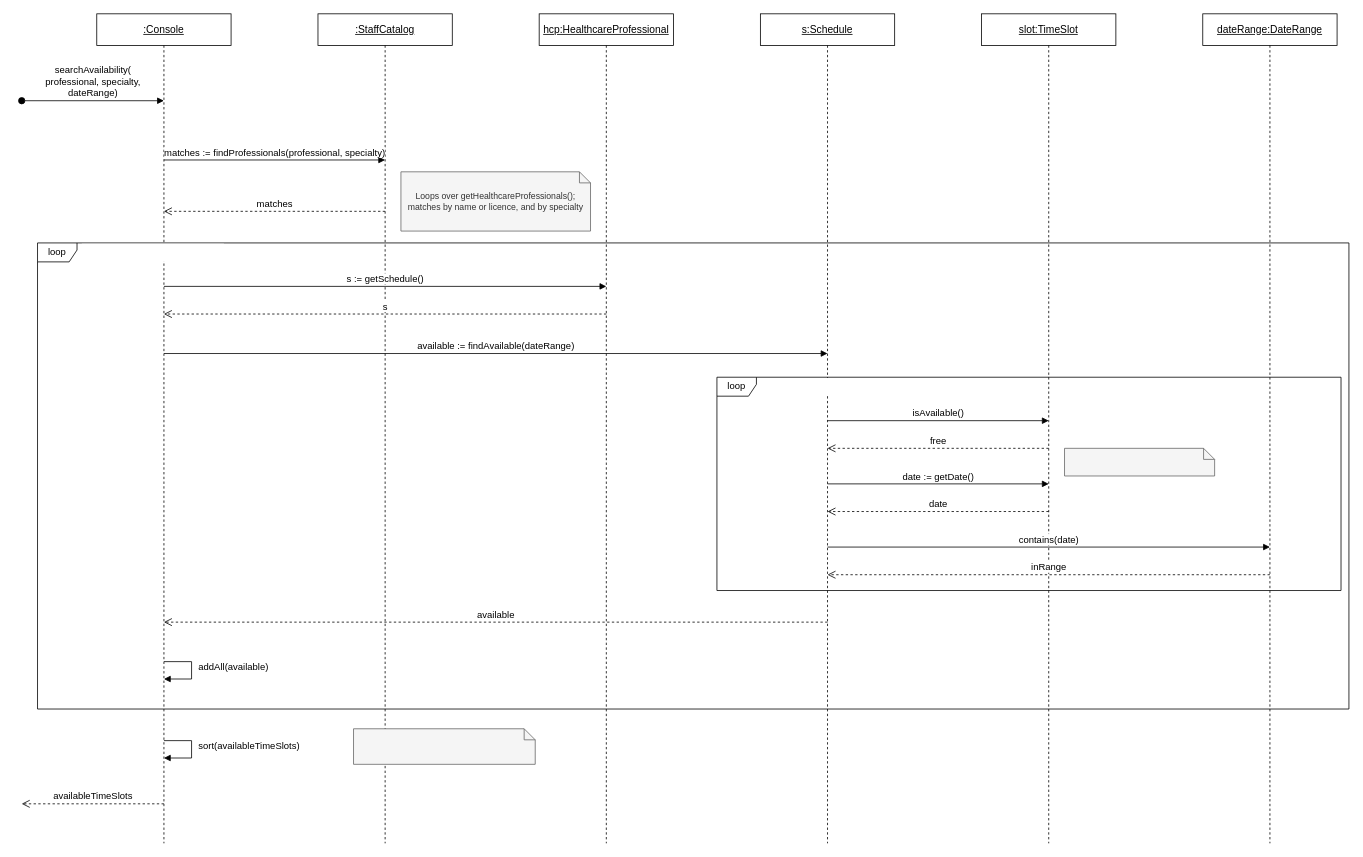
Some shapes in this 1363 by 857 pixel diagram are drawn without their labels. Each missing label, with the centre of its shape:
"[for each hcp in matches]" goes at pixel 152 252.
"[for each slot in timeSlots]" goes at pixel 840 386.
"by date, then start time, then professional name" goes at pixel 444 746.
"Keeps slot if free and inRange" goes at pixel 1139 462.
